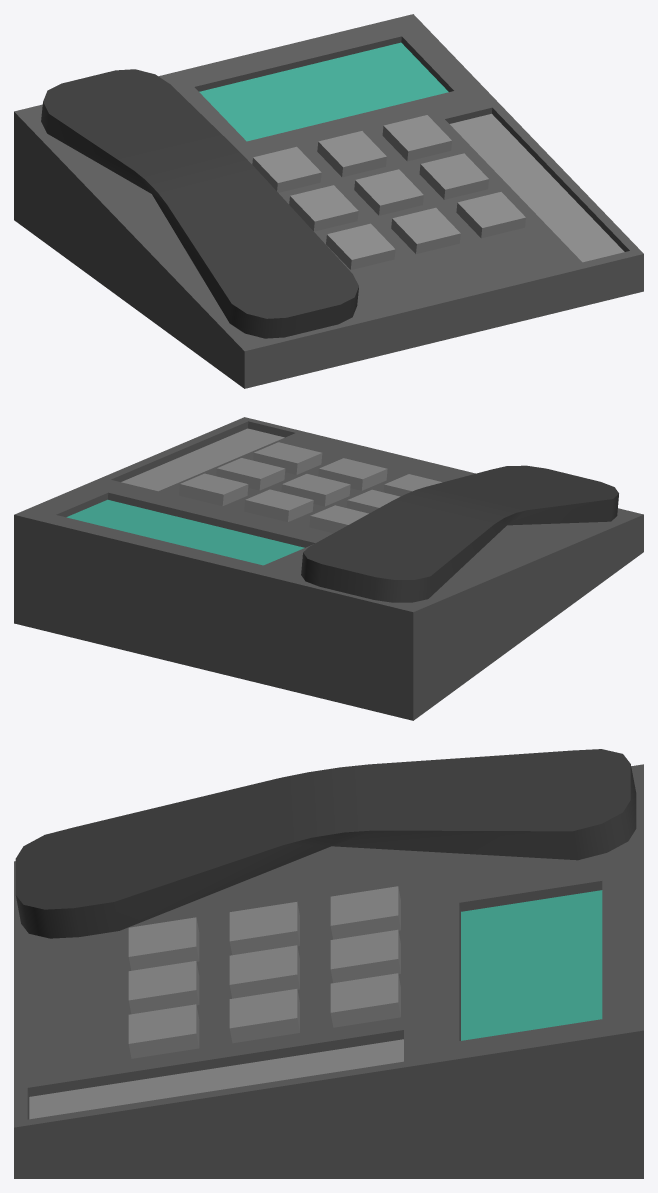
File: Phone.fbx
3 views of the same model, one above another, from view 1: azimuth 30°, elevation 25°; view 2: azimuth 150°, elevation 25°; view 3: azimuth 270°, elevation 25° (orthographic). The views are drawn at different scales.
Visible parts, largest first — view 1: Phone; view 2: Phone; view 3: Phone.
Part boxes in pixels (box(x1,y1,x2,y2)): Phone: box(14, 14, 643, 388); Phone: box(14, 417, 643, 720); Phone: box(14, 749, 643, 1178).
Bounding box in the file's own units: 0.1053 × 0.0327 × 0.1053.
